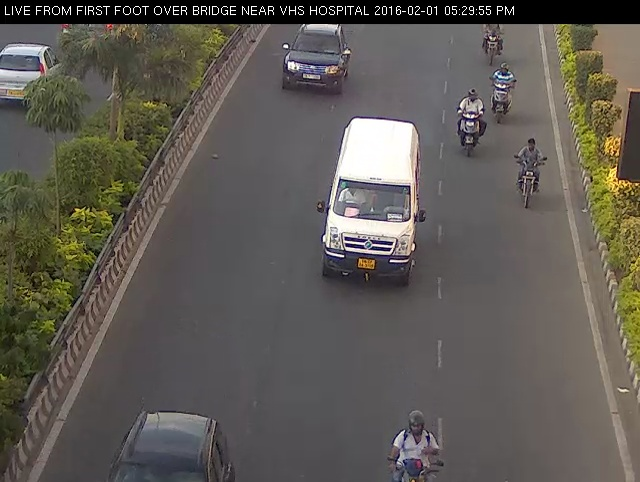Bus: (314, 107, 428, 308)
Car: (77, 403, 251, 480), (279, 21, 354, 99)
Person: (384, 393, 444, 482), (505, 133, 554, 211), (452, 82, 485, 160), (485, 62, 518, 128), (478, 16, 510, 68)
